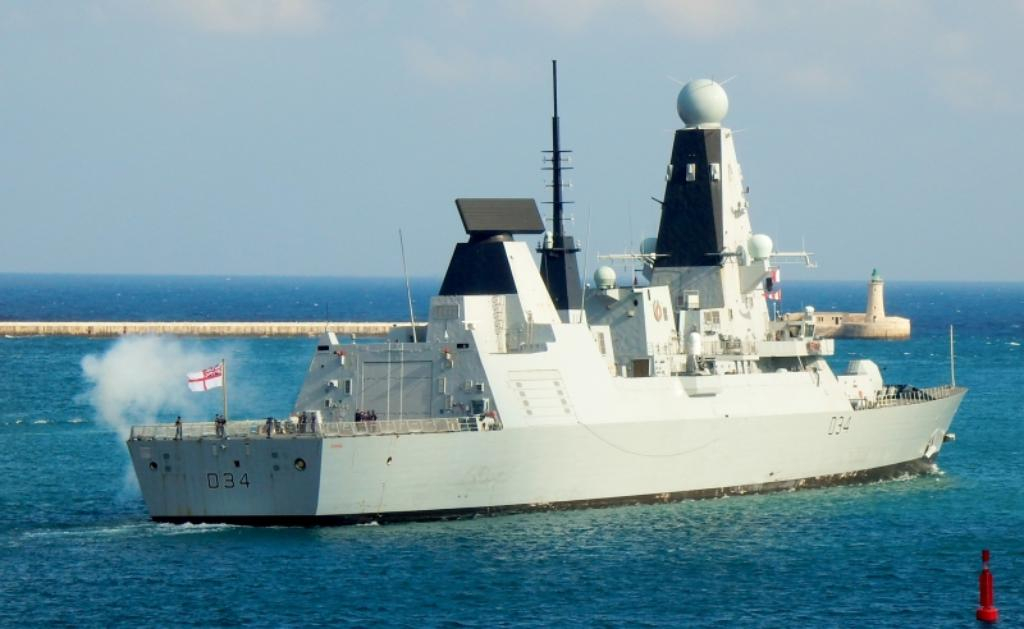Warship: (128, 48, 966, 524)
